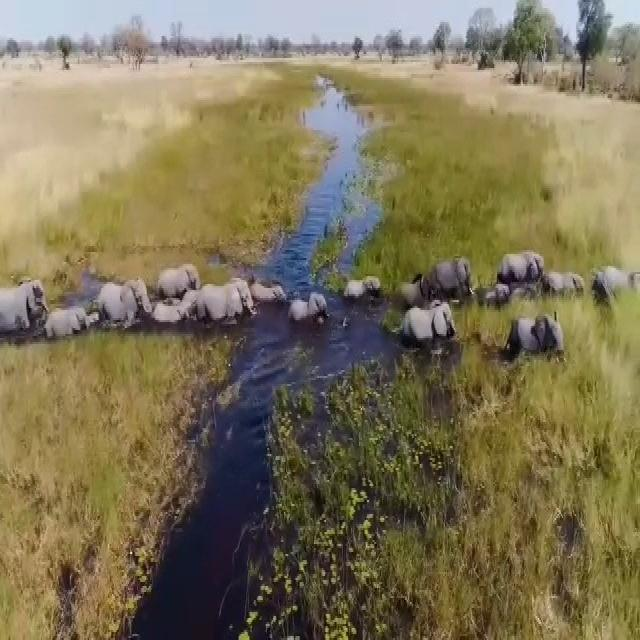Elephant: (97, 280, 150, 333), (1, 283, 51, 335), (202, 282, 252, 332), (508, 321, 564, 362), (406, 307, 452, 350), (423, 265, 475, 303), (595, 270, 640, 311), (288, 292, 334, 326), (54, 296, 86, 344), (159, 260, 195, 302), (339, 272, 381, 305), (502, 253, 543, 284), (251, 276, 288, 308), (550, 269, 586, 300)
